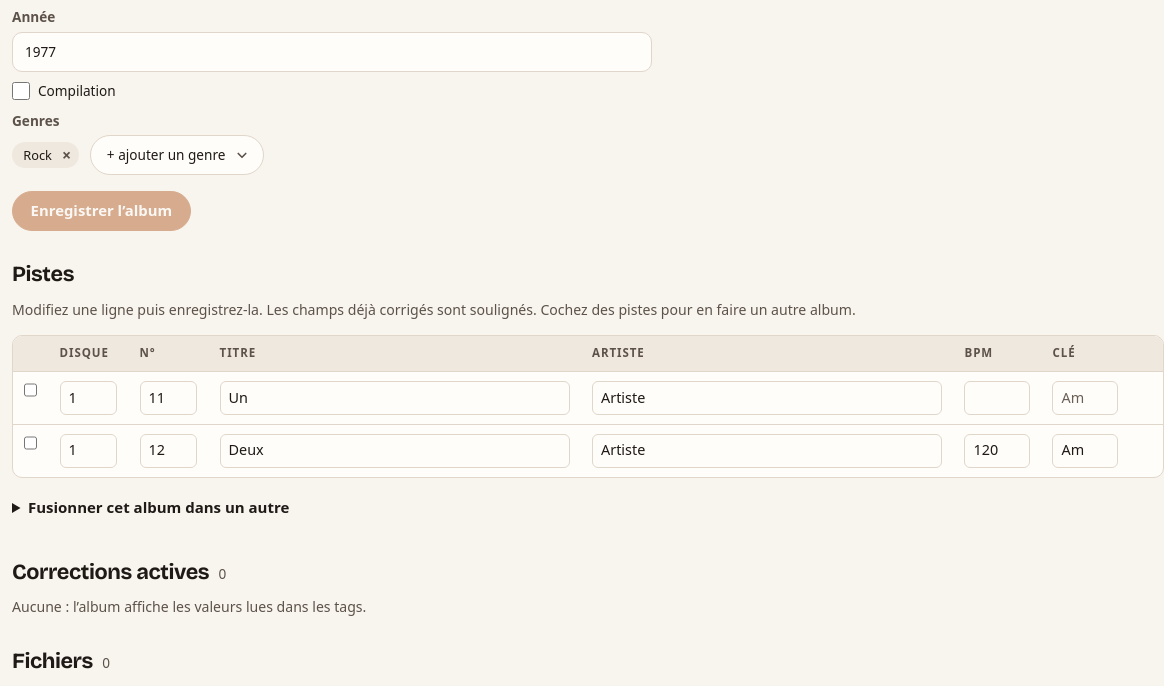
admin : correction d’un album › piste : seulement les champs changés ; clé invalide refusée avant l’envoi
(page scrolled)
Step 1. Type "H" into the field named "Clé (Deux)" → [1085, 451], box [1052, 434, 1118, 468]
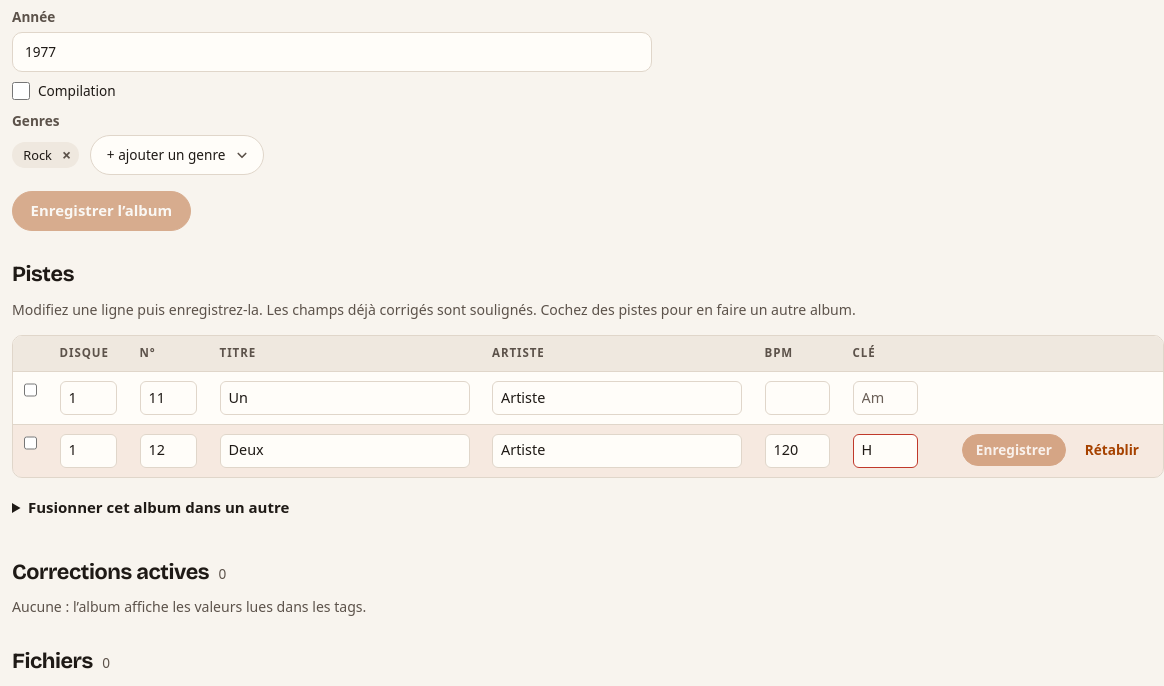
Now the button "Enregistrer" is disabled, box [962, 434, 1066, 466]
Step 2. Replace the text in the field named "Clé (Deux)" with "F#m" → [885, 451], box [852, 434, 918, 468]
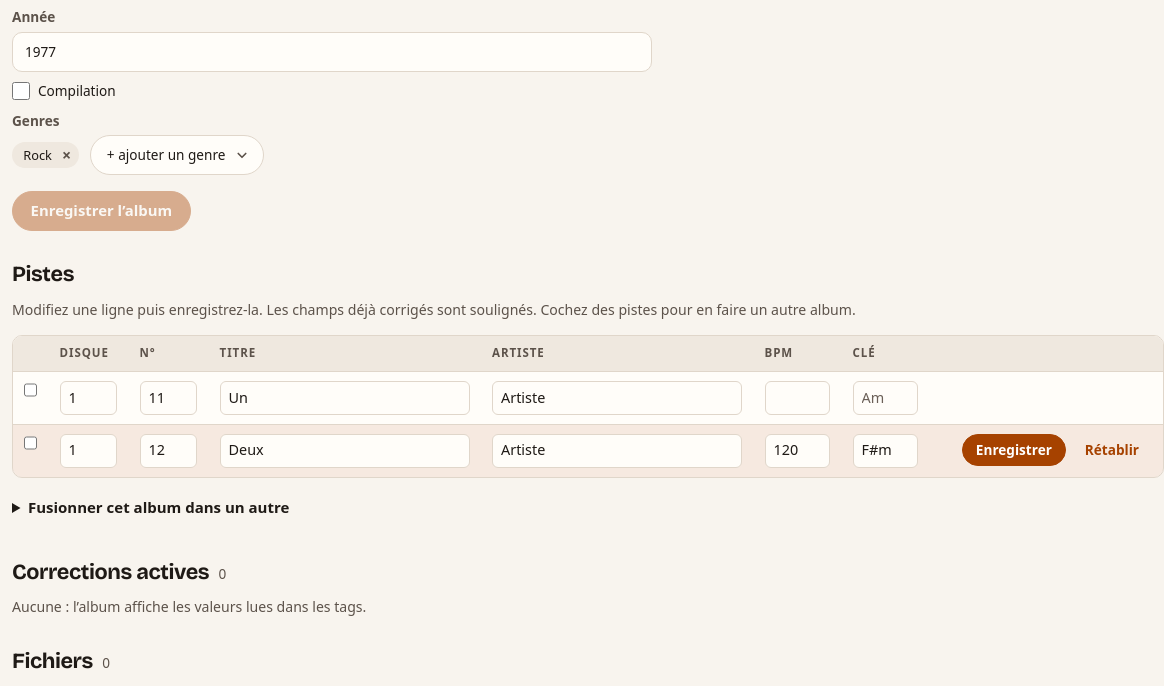
Step 3. Replace the text in the field named "BPM (Deux)" with "98,5" → [797, 451], box [764, 434, 830, 468]
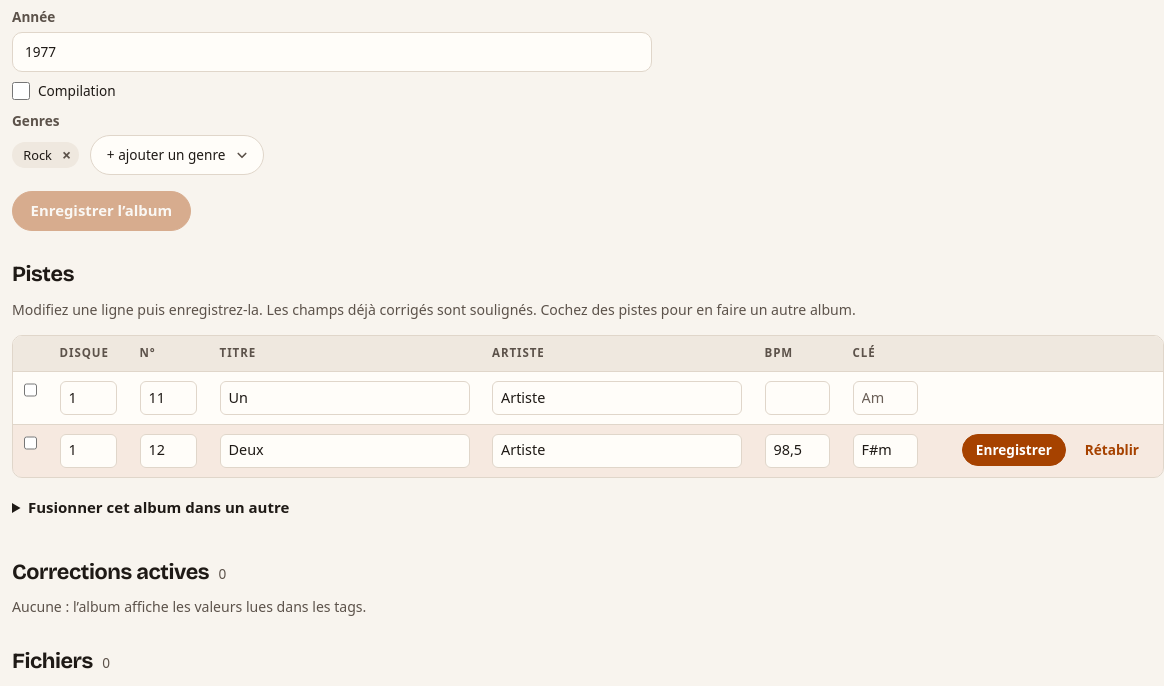
Step 4. Click the button "Enregistrer" → [1014, 450], box [962, 434, 1066, 466]
(page scrolled)
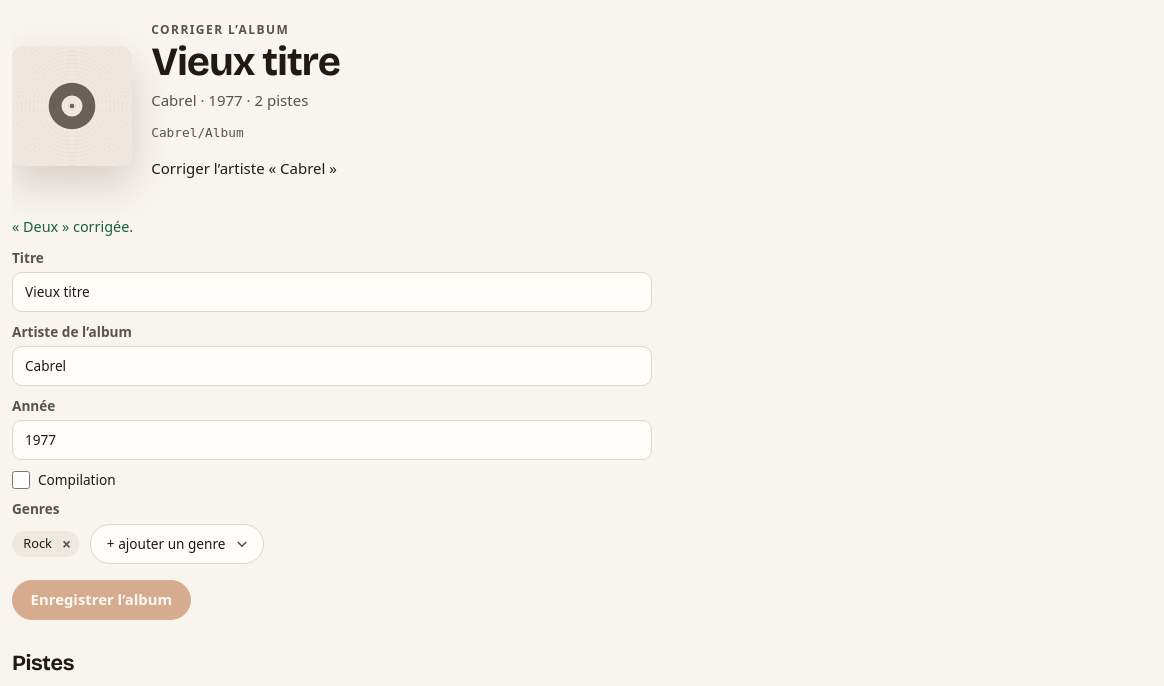
Now the text "« Deux » corrigée." is shown, box [12, 217, 133, 236]
